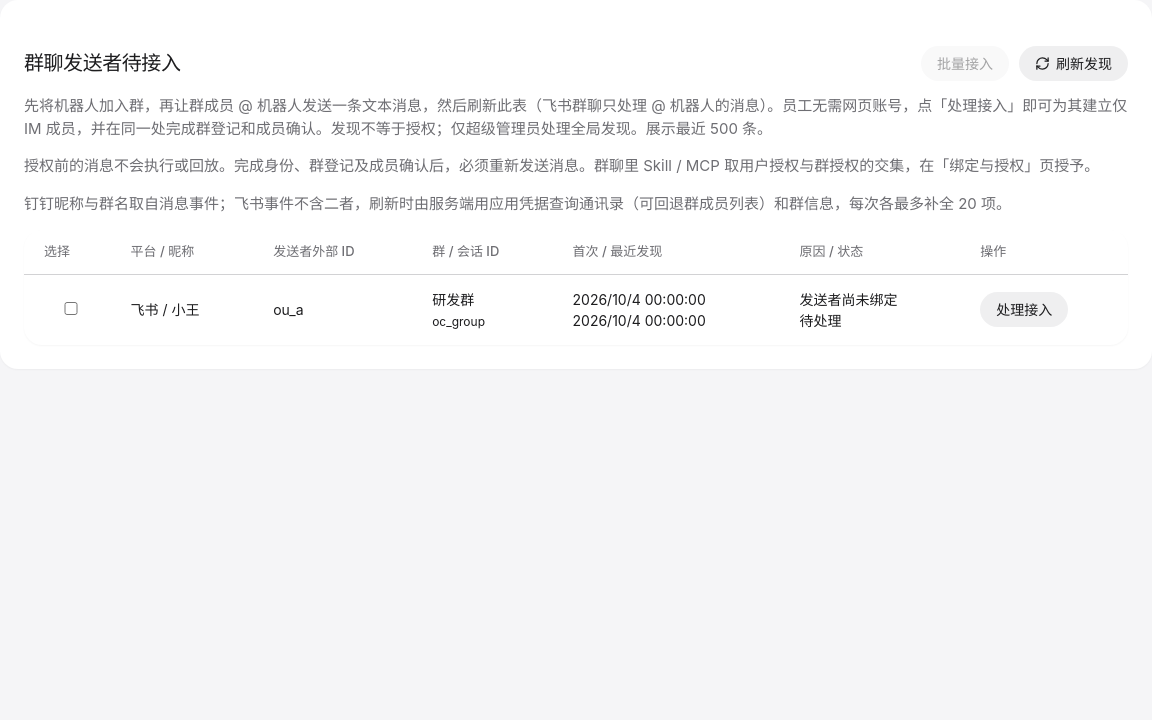
Test: group senders are told how to continue after onboarding, on the same page
Click the button "处理接入": [1024, 310] box x1=980 y1=292 x2=1068 y2=327
(page scrolled)
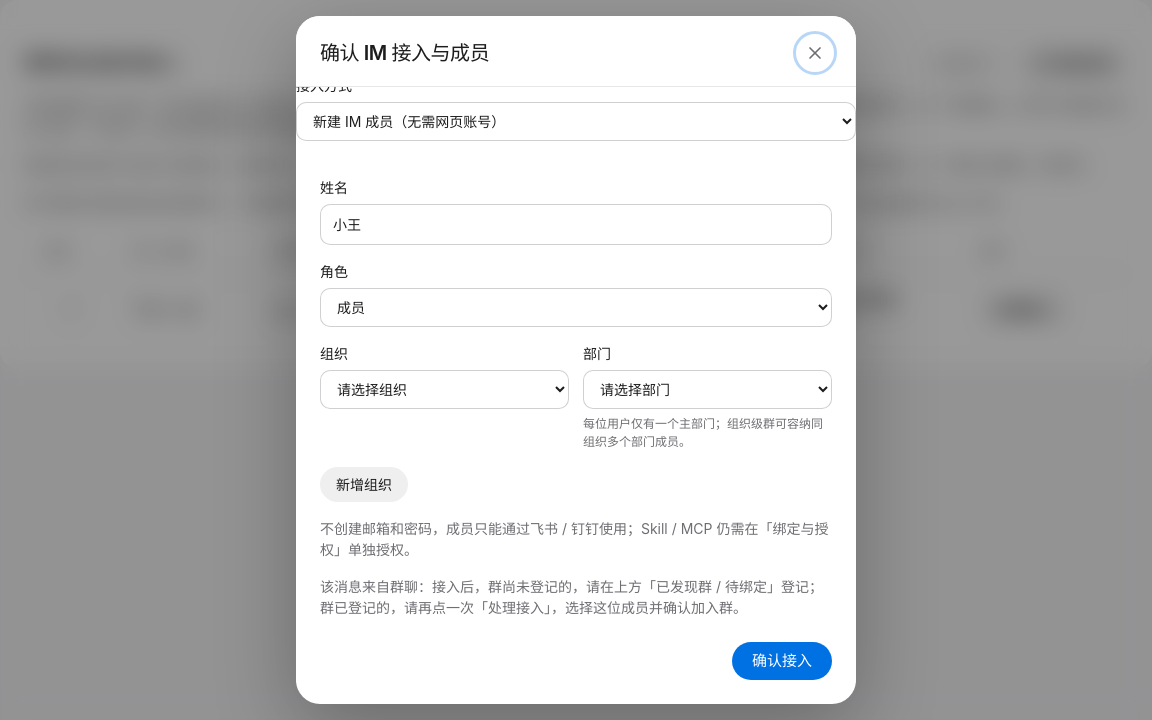
Expected: the text "该消息来自群聊：接入后，群尚未登记的，请在上方「已发现群 / 待绑定」登记；群已登记的，请再点一次「处理接入」，选择这位成员并确认加入群。" is shown, x1=320 y1=576 x2=832 y2=618
